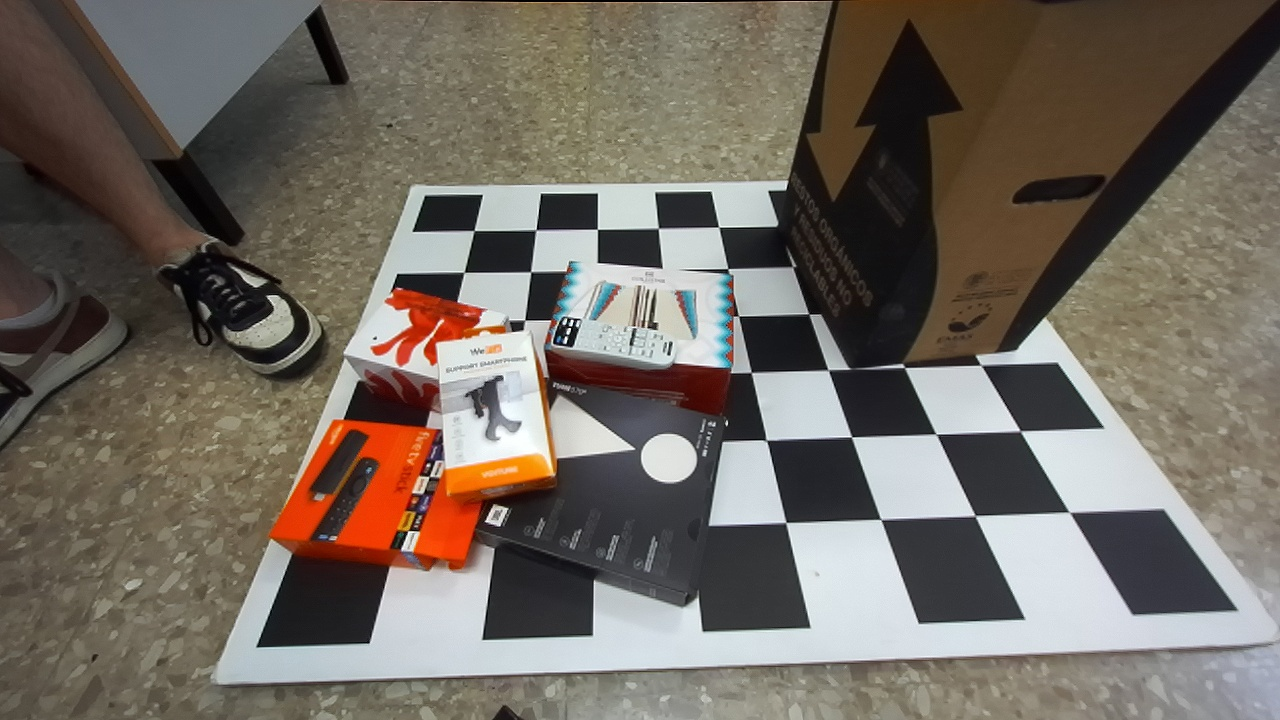caja_busbar: (543, 261, 734, 413)
caja_chasis: (475, 380, 724, 603)
caja_manguera: (271, 420, 481, 569)
caja_pcb: (438, 331, 556, 501)
caja_potencia: (344, 288, 509, 410)
